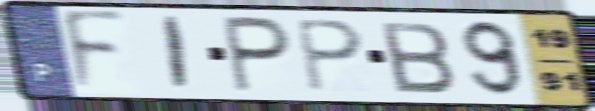9: (458, 18, 526, 100)
B: (376, 19, 459, 96)
F: (59, 8, 129, 96)
I: (162, 13, 192, 92)
P: (220, 13, 295, 96), (292, 17, 368, 95)
